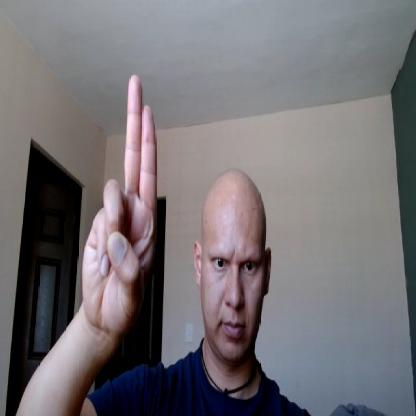U: (82, 72, 158, 333)
